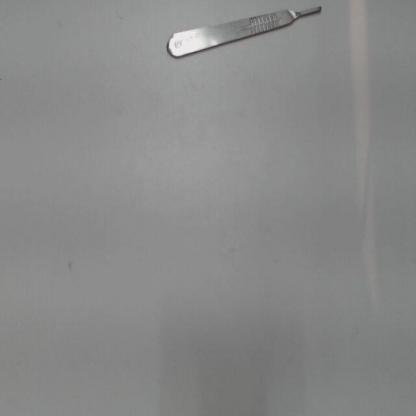No.3 BP Handle: (162, 2, 327, 63)
